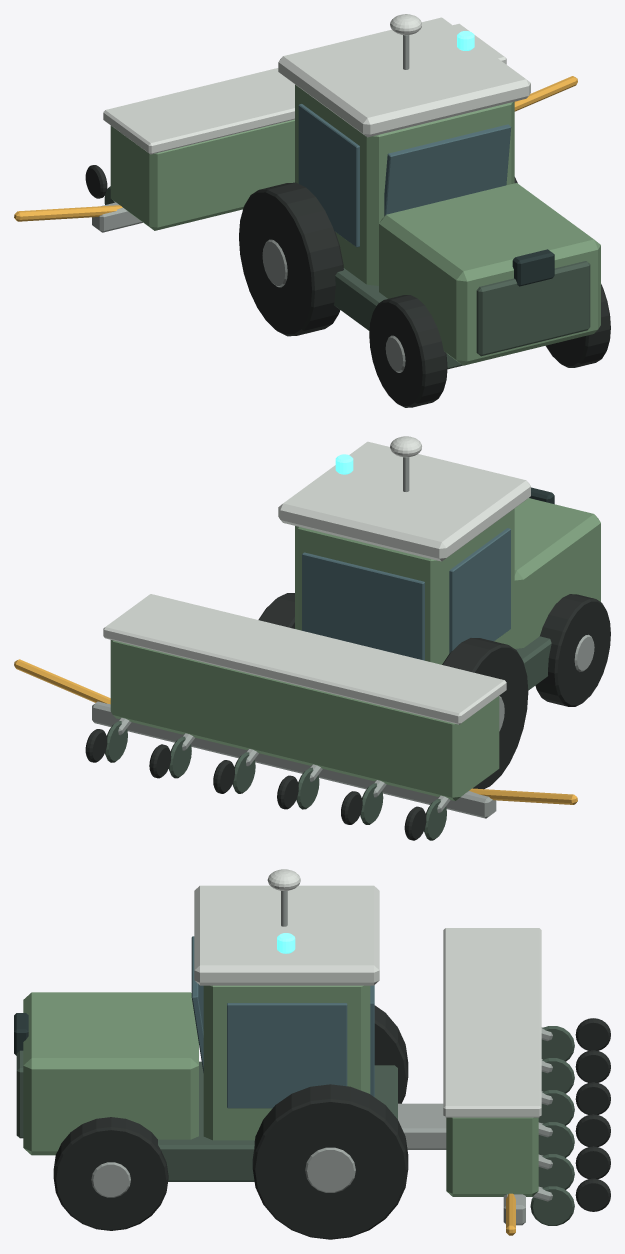
Rendered from fieldvision-autonomous-tractor-seeder.glb.
The picture shows the model from 3 angles, top to bottom: view 1: azimuth 30°, elevation 25°; view 2: azimuth 150°, elevation 25°; view 3: azimuth 270°, elevation 25°; orthographic projection. The views are drawn at different scales.
Parts seen in each view (by area): view 1: EngineHood, CabRoof, SeedHopper, WheelRearRight, SeedHopperLid, Cab, FrontGrille, CabGlassFront, WheelFrontRight, CabGlassRight, TractorChassis, WheelFrontLeft (+8 smaller); view 2: SeedHopper, SeedHopperLid, CabRoof, CabGlassRear, EngineHood, Cab, WheelFrontRight, CabGlassRight, WheelRearRight, SeederToolbar, TractorChassis, RightMarkerArm (+16 smaller); view 3: EngineHood, SeedHopperLid, CabRoof, WheelRearLeft, CabGlassLeft, Cab, WheelFrontLeft, SeedHopper, TractorChassis, RearHitch, WheelRearRight, WheelHubRear_1.18 (+18 smaller).
Part boxes in pixels (<box>): EngineHood: <box>379,183,600,365</box>; CabRoof: <box>278,17,530,137</box>; SeedHopper: <box>110,119,294,230</box>; WheelRearRight: <box>239,182,343,336</box>; SeedHopperLid: <box>103,23,506,154</box>; Cab: <box>295,84,514,285</box>; FrontGrille: <box>476,261,590,356</box>; CabGlassFront: <box>384,124,511,215</box>; WheelFrontRight: <box>369,295,447,407</box>; CabGlassRight: <box>298,104,359,247</box>; TractorChassis: <box>334,268,462,369</box>; WheelFrontLeft: <box>546,284,610,367</box>; SeedHopper: <box>110,640,499,800</box>; SeedHopperLid: <box>103,594,506,724</box>; CabRoof: <box>278,441,530,561</box>; CabGlassRear: <box>302,552,424,660</box>; EngineHood: <box>514,498,600,648</box>; Cab: <box>295,508,514,664</box>; WheelFrontRight: <box>535,594,610,706</box>; CabGlassRight: <box>449,528,510,653</box>; WheelRearRight: <box>442,638,528,789</box>; SeederToolbar: <box>92,701,496,818</box>; TractorChassis: <box>515,636,551,690</box>; RightMarkerArm: <box>469,788,577,804</box>; EngineHood: <box>23,992,198,1155</box>; SeedHopperLid: <box>443,928,541,1117</box>; CabRoof: <box>194,885,379,985</box>; WheelRearLeft: <box>252,1084,408,1239</box>; CabGlassLeft: <box>227,1003,347,1108</box>; Cab: <box>203,985,370,1140</box>; WheelFrontLeft: <box>53,1117,168,1230</box>; SeedHopper: <box>446,1117,538,1196</box>; TractorChassis: <box>158,1061,397,1181</box>; RearHitch: <box>398,1103,446,1149</box>; WheelRearRight: <box>374,1005,408,1103</box>; WheelHubRear_1.18: <box>305,1147,355,1192</box>.
Size of the model in its own units: 7.23 by 3.75 by 6.45.
